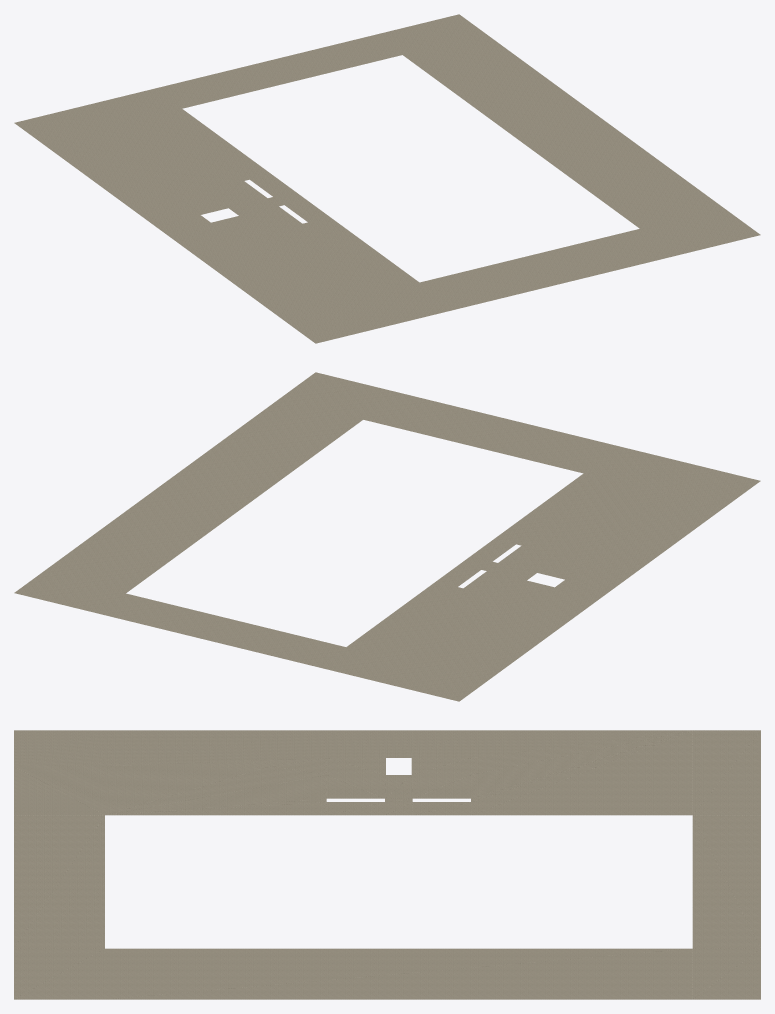
Rendered from fan zone footpath.fbx.
3 views of the same model, one above another, from view 1: azimuth 30°, elevation 25°; view 2: azimuth 150°, elevation 25°; view 3: azimuth 270°, elevation 25° (orthographic). The views are drawn at different scales.
Parts seen in each view (by area): view 1: Floor; view 2: Floor; view 3: Floor.
Boxes of the visible parts, x1,y1,x2,y2 form: Floor: (14,14,760,343); Floor: (14,372,760,701); Floor: (14,730,760,999).
Size of the model in its own units: 117 by 0 by 137.
Materials: 1 (1 with a texture image).
